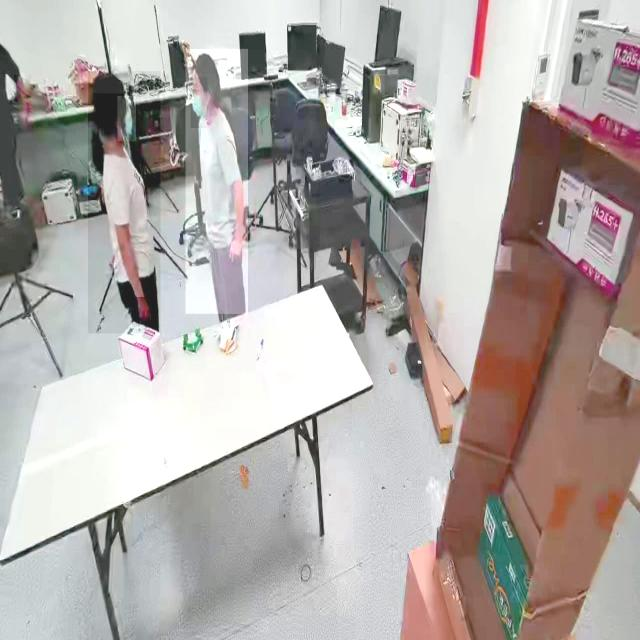face_mask: (190, 77, 208, 128), (118, 96, 136, 141)
hand_noglove: (14, 74, 32, 106), (228, 237, 245, 263), (136, 297, 150, 325)
head_nohelmet: (90, 71, 126, 94), (190, 52, 218, 74)
person: (88, 71, 161, 334), (186, 49, 248, 315)
